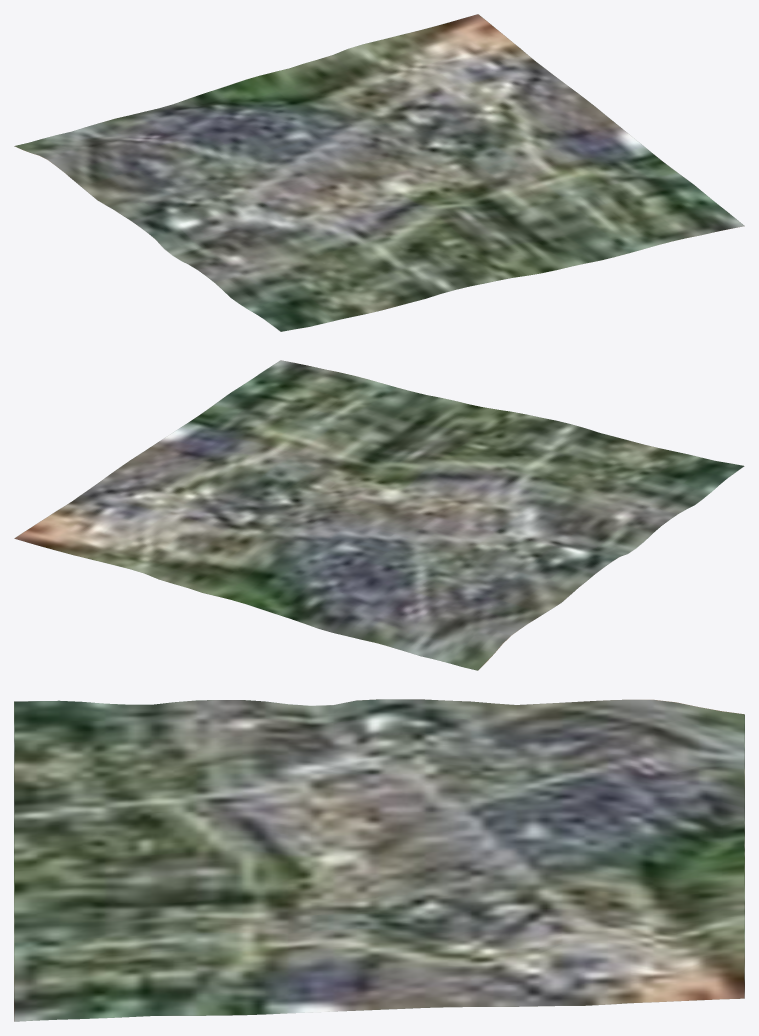
3 renders of one model, top to bottom at view 1: azimuth 30°, elevation 25°; view 2: azimuth 150°, elevation 25°; view 3: azimuth 270°, elevation 25°, orthographic. The views are drawn at different scales.
Bounding box in the file's own units: 975 × 38.26 × 971.
1 material, 1 textured.
